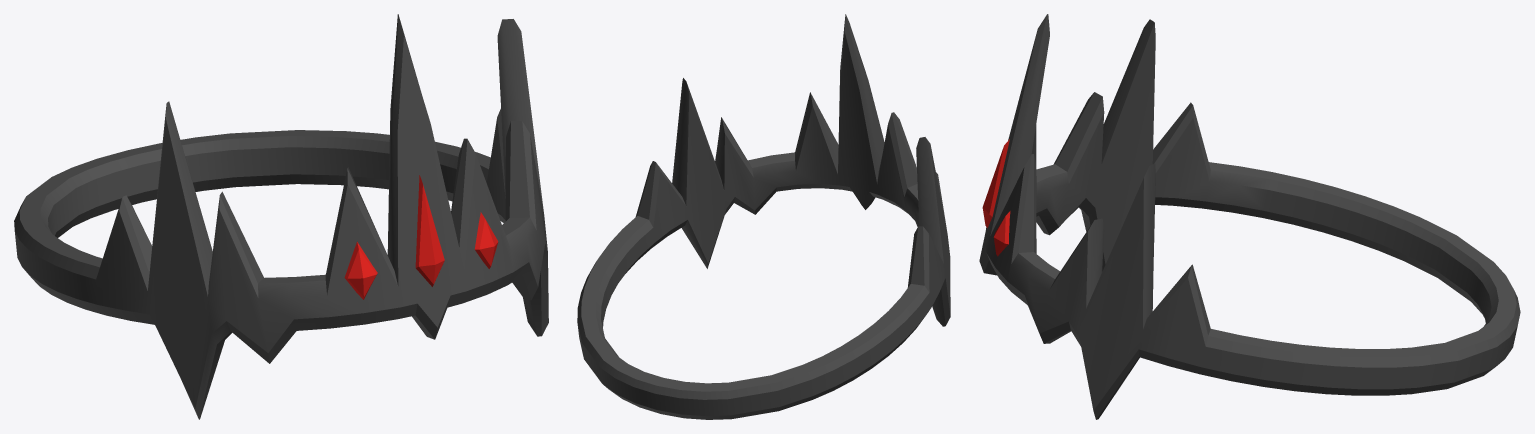
Rendered from crown.fbx.
The picture shows the model from 3 angles, left to right: view 1: azimuth 30°, elevation 25°; view 2: azimuth 150°, elevation 25°; view 3: azimuth 270°, elevation 25°; orthographic projection. The views are drawn at different scales.
Visible parts, largest first — view 1: Crown; view 2: Crown; view 3: Crown.
Boxes of the visible parts, x1,y1,x2,y2 form: Crown: (14, 14, 548, 419); Crown: (577, 14, 950, 419); Crown: (979, 14, 1520, 419).
Bounding box in the file's own units: 56.91 × 71.79 × 48.87.
